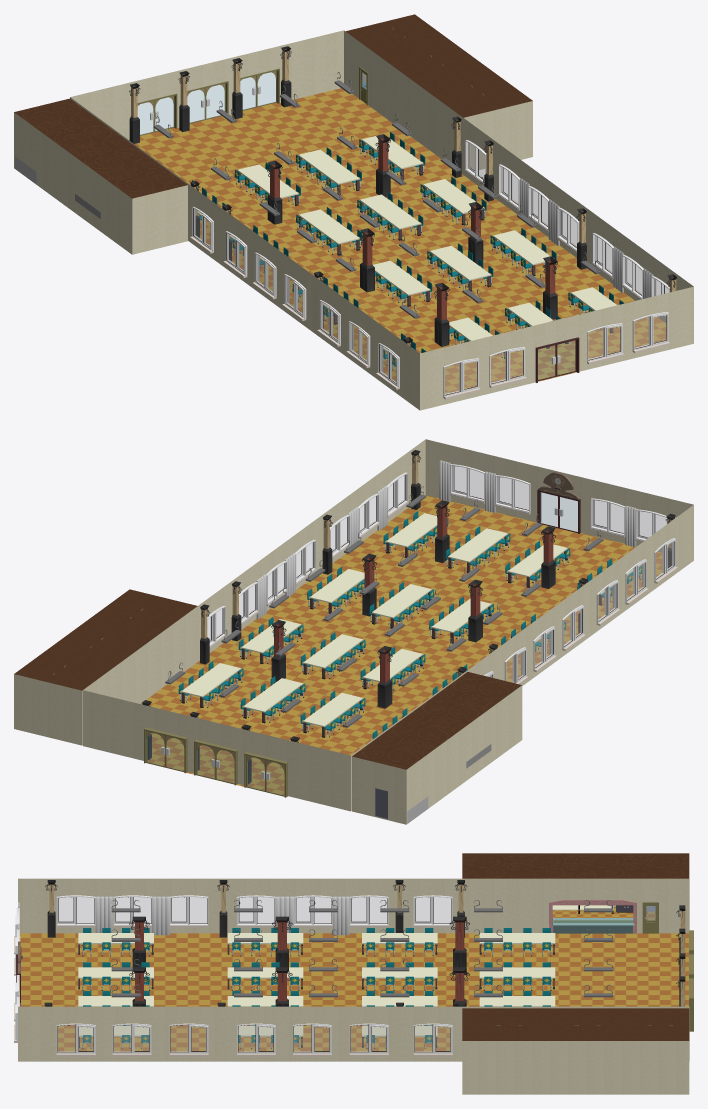
File: env_cafeteria.glb
The picture shows the model from 3 angles, top to bottom: view 1: azimuth 30°, elevation 25°; view 2: azimuth 150°, elevation 25°; view 3: azimuth 270°, elevation 25°; orthographic projection. The views are drawn at different scales.
Parts seen in each view (by area): view 1: Bulding.001, Other Rooms, Window.159, Window.161, Window.160, Window.162, Table, Table.001, Table.008, Table.012, Table.009, Table.011 (+29 smaller); view 2: Bulding.001, Other Rooms, Window.159, Window.162, Window.161, Table, Table.012, Table.013, Table.015, Table.004, Table.008, Table.011 (+34 smaller); view 3: Bulding.001, Other Rooms, Food Arch, Window.164, Window.165, Window.169, Window.177, Window.163, Window.166, Window.178, Window.170, Window.171 (+34 smaller).
Boxes of the visible parts, x1=… form: Bulding.001: x1=70, y1=30, x2=693, y2=410; Other Rooms: x1=14, y1=14, x2=532, y2=254; Window.159: x1=489, y1=347, x2=526, y2=388; Window.161: x1=632, y1=312, x2=669, y2=353; Window.160: x1=443, y1=358, x2=480, y2=399; Window.162: x1=587, y1=323, x2=624, y2=364; Table: x1=360, y1=194, x2=420, y2=240; Table.001: x1=298, y1=209, x2=359, y2=255; Table.008: x1=430, y1=245, x2=490, y2=291; Table.012: x1=298, y1=149, x2=359, y2=194; Table.009: x1=373, y1=260, x2=429, y2=306; Table.011: x1=493, y1=230, x2=549, y2=275; Bulding.001: x1=83, y1=439, x2=693, y2=811; Other Rooms: x1=14, y1=589, x2=522, y2=824; Window.159: x1=590, y1=498, x2=625, y2=537; Window.162: x1=495, y1=475, x2=530, y2=514; Window.161: x1=450, y1=464, x2=485, y2=503; Table: x1=303, y1=634, x2=363, y2=679; Table.012: x1=243, y1=678, x2=303, y2=723; Table.013: x1=303, y1=693, x2=362, y2=737; Table.015: x1=181, y1=663, x2=241, y2=707; Table.004: x1=448, y1=528, x2=507, y2=572; Table.008: x1=372, y1=584, x2=431, y2=628; Table.011: x1=310, y1=569, x2=364, y2=613; Bulding.001: x1=18, y1=878, x2=689, y2=1061; Other Rooms: x1=462, y1=853, x2=689, y2=1094; Food Arch: x1=549, y1=900, x2=636, y2=933; Window.164: x1=112, y1=1023, x2=151, y2=1056; Window.165: x1=56, y1=1023, x2=95, y2=1056; Window.169: x1=349, y1=1023, x2=388, y2=1056; Window.177: x1=413, y1=1023, x2=452, y2=1056; Window.163: x1=169, y1=1023, x2=208, y2=1056; Window.166: x1=56, y1=895, x2=95, y2=927; Window.178: x1=413, y1=895, x2=452, y2=927; Window.170: x1=293, y1=1023, x2=331, y2=1056; Window.171: x1=237, y1=1023, x2=275, y2=1056.
Bounding box in the file's own units: 27.17 × 3.72 × 41.59.
Materials: 38 (21 with a texture image).
